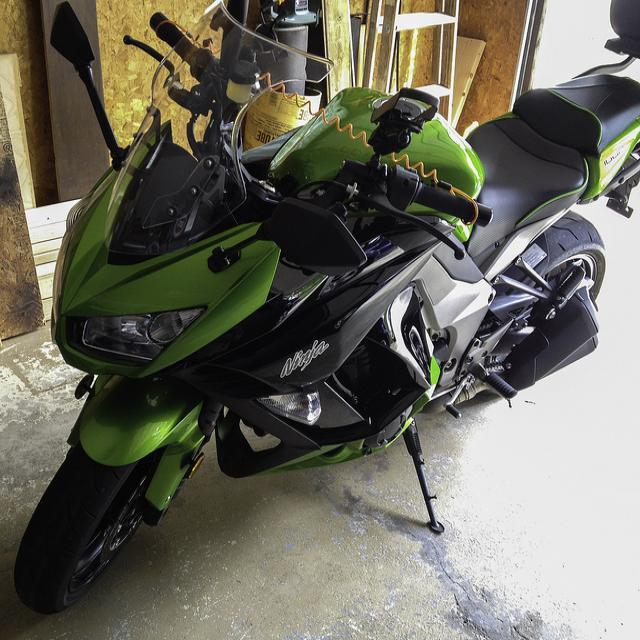motor: (4, 50, 637, 593)
